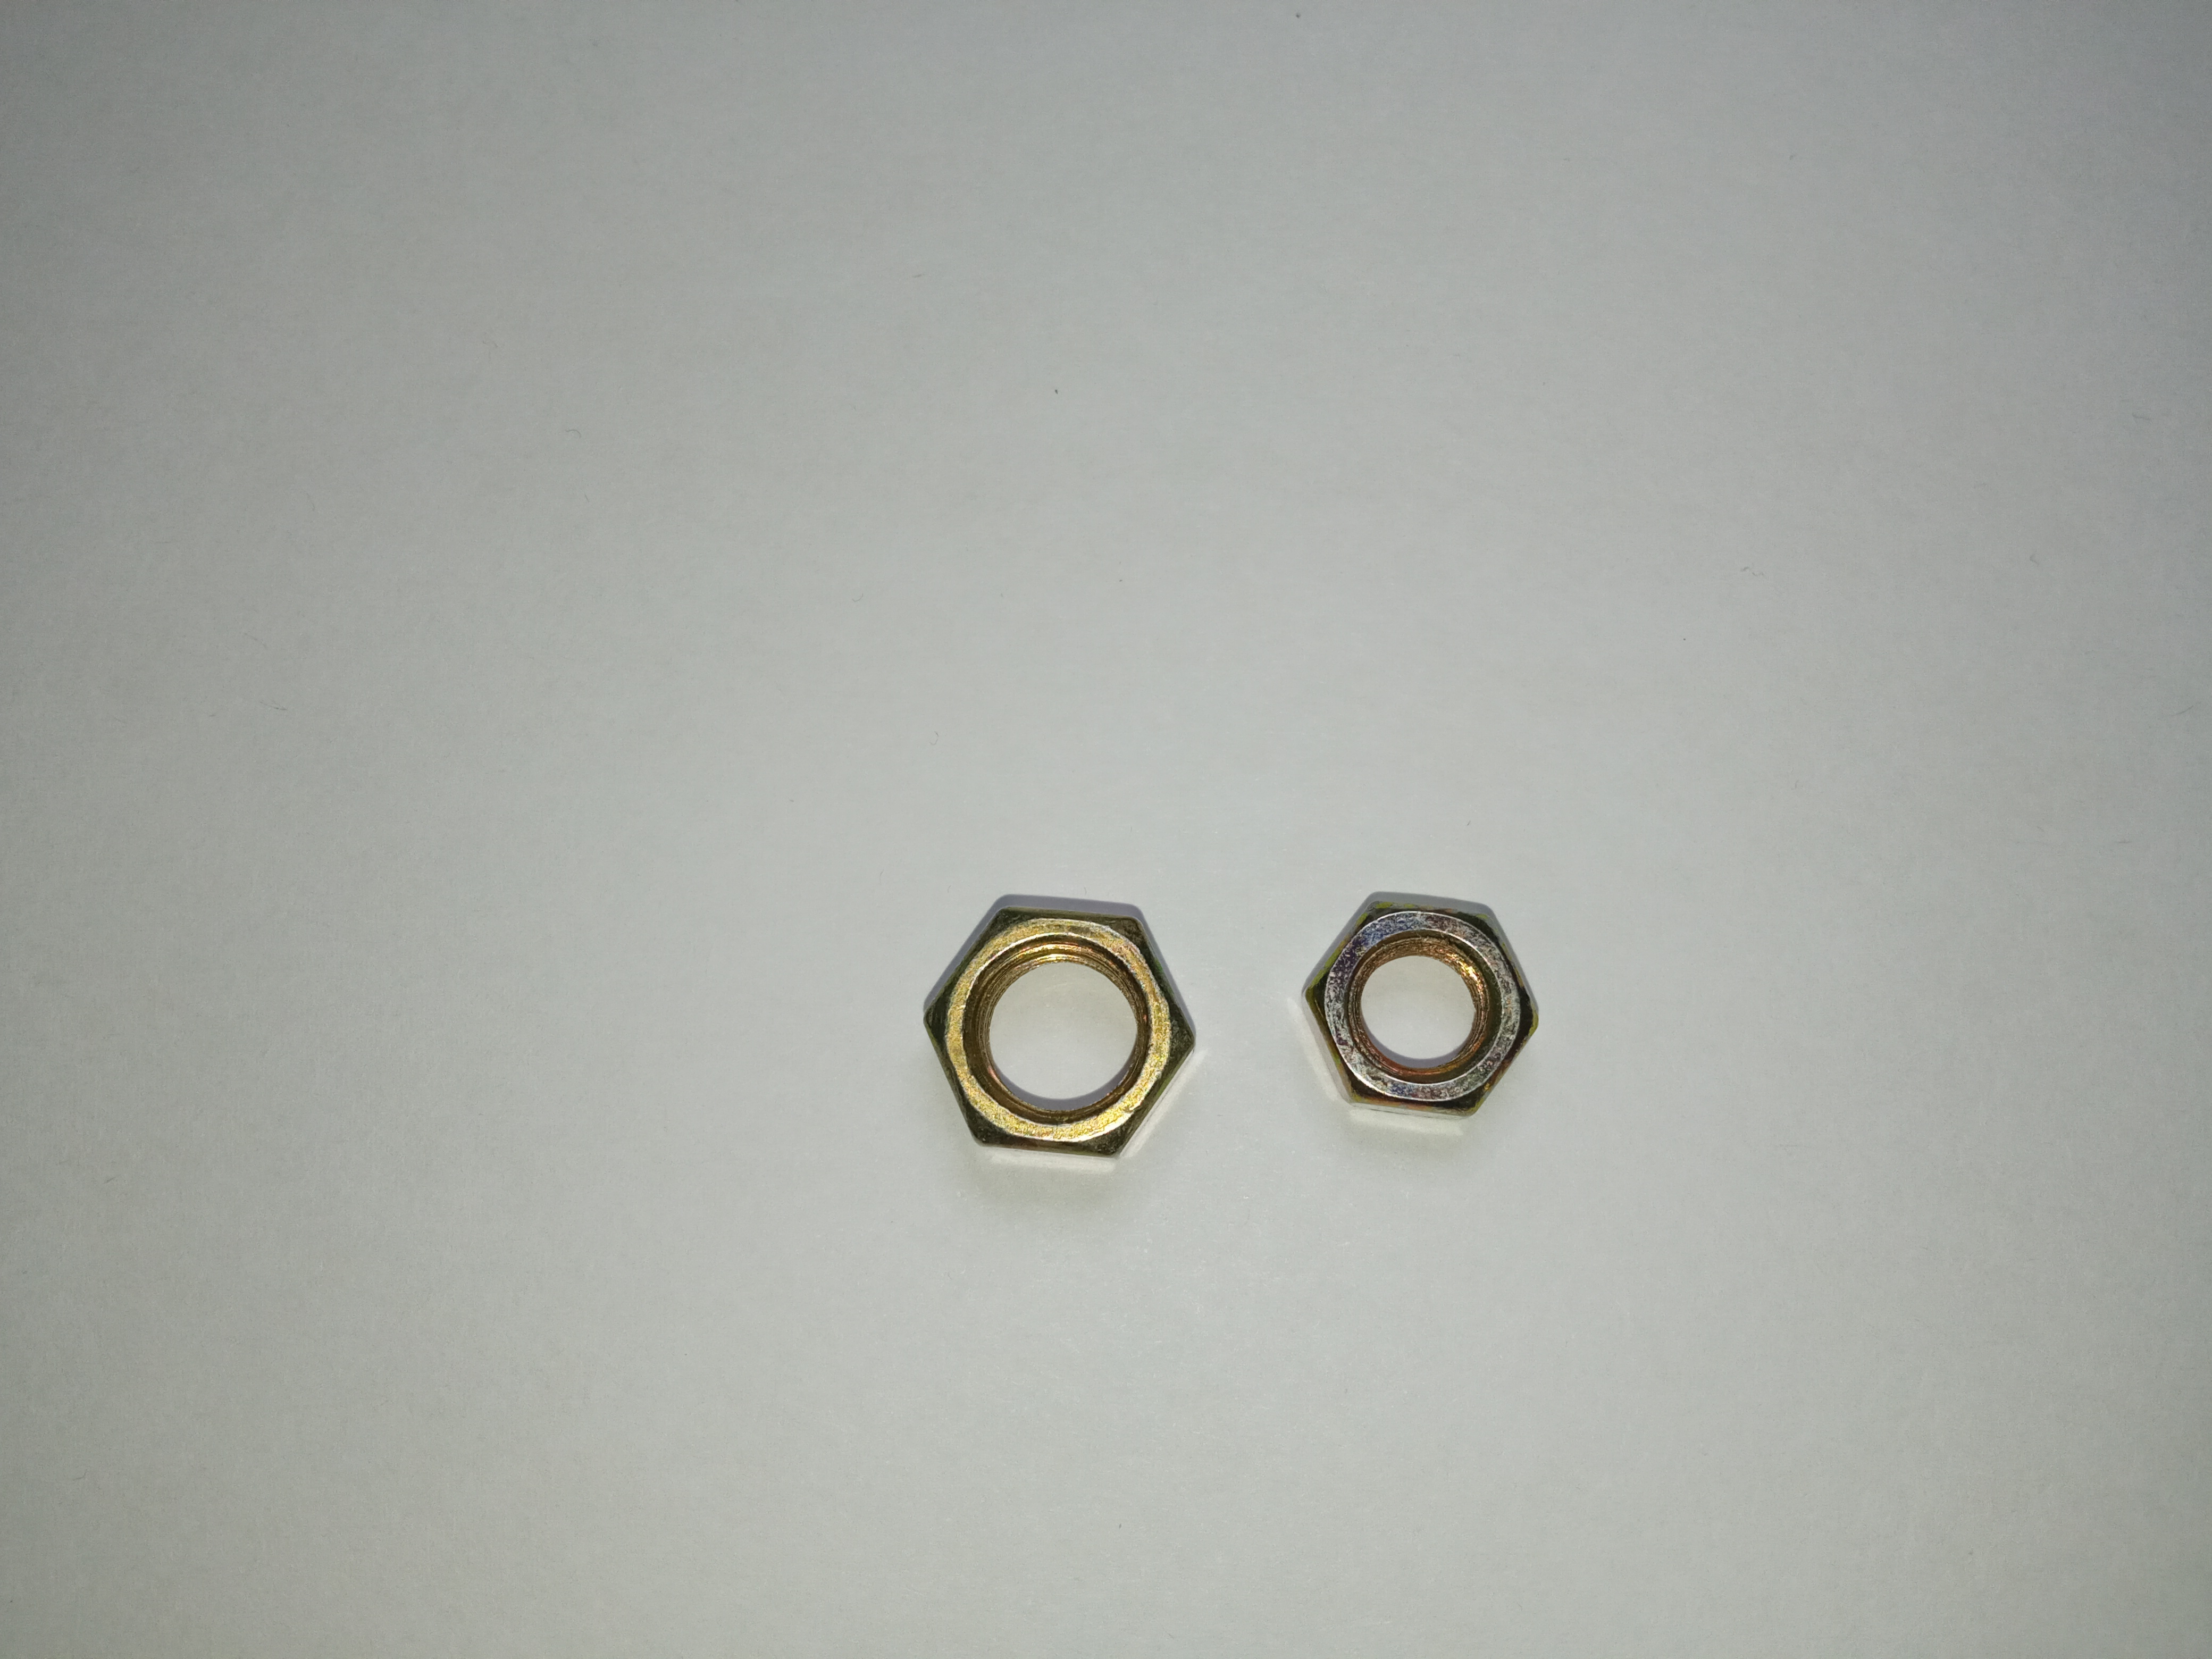m10: (920, 903, 1211, 1162)
m8: (1313, 896, 1536, 1115)
